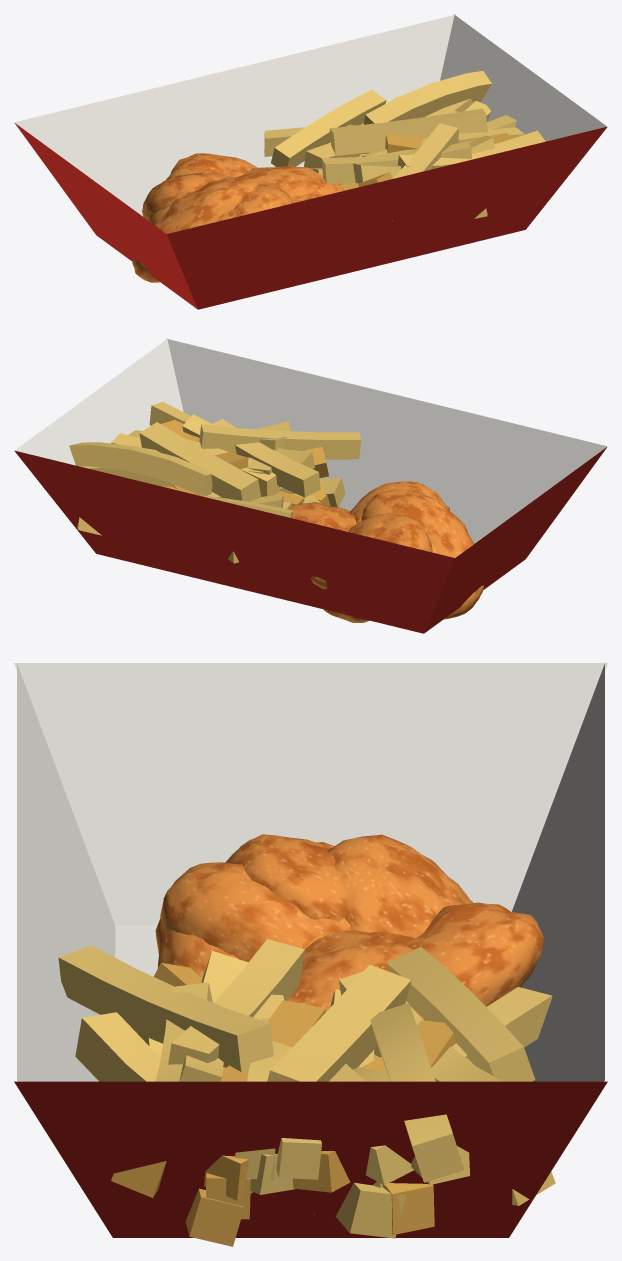
File: habibi-nuggets-8-fries.glb
The picture shows the model from 3 angles, top to bottom: view 1: azimuth 30°, elevation 25°; view 2: azimuth 150°, elevation 25°; view 3: azimuth 270°, elevation 25°; orthographic projection. The views are drawn at different scales.
Parts seen in each view (by area): view 1: Tray, Fries, Nuggets; view 2: Tray, Fries, Nuggets; view 3: Tray, Fries, Nuggets.
Part boxes in pixels (left/top/right/bottom): Tray: left=15, top=14, right=607, bottom=309; Fries: left=264, top=71, right=545, bottom=220; Nuggets: left=132, top=153, right=344, bottom=282; Tray: left=14, top=338, right=606, bottom=633; Fries: left=69, top=402, right=361, bottom=563; Nuggets: left=288, top=481, right=483, bottom=622; Tray: left=14, top=662, right=607, bottom=1237; Fries: left=58, top=939, right=555, bottom=1246; Nuggets: left=155, top=834, right=543, bottom=1020.
Bounding box in the file's own units: 0.177 × 0.0484 × 0.105.
Materials: 5 (1 with a texture image).
